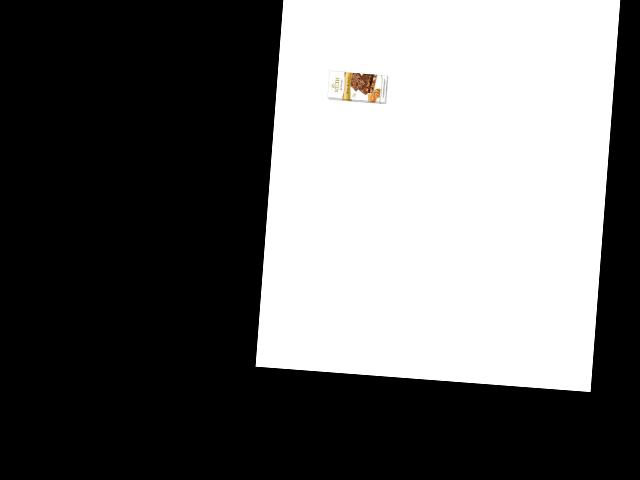chocolate: (324, 69, 390, 105)
